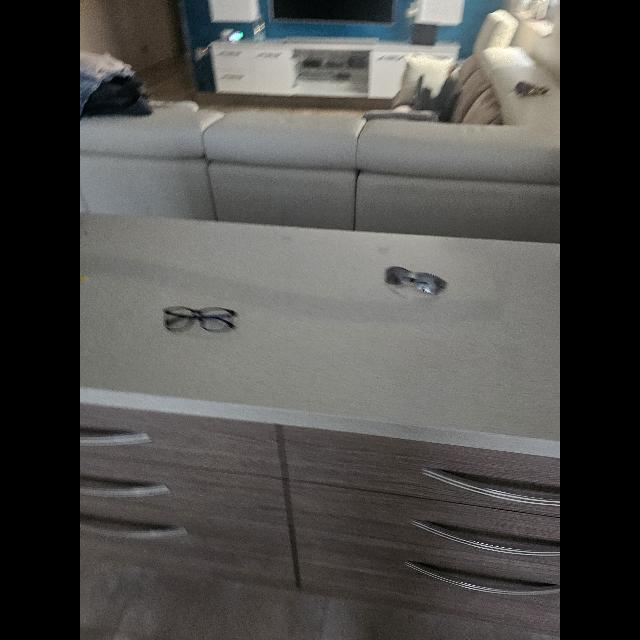Sunglasses: (384, 266, 448, 294)
glasses: (162, 306, 238, 332)
